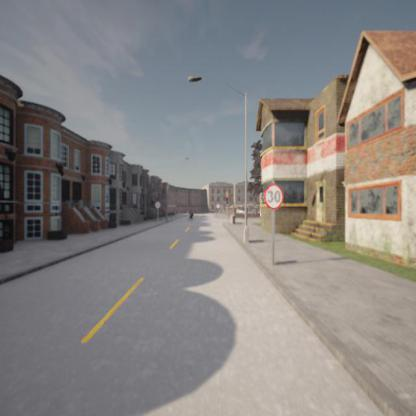traffic_sign_30: (263, 184, 284, 209)
